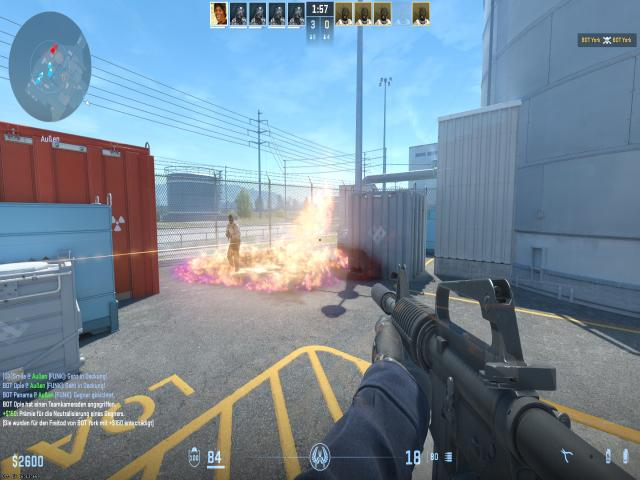T: (226, 213, 241, 270)
T-Head: (227, 213, 236, 224)
